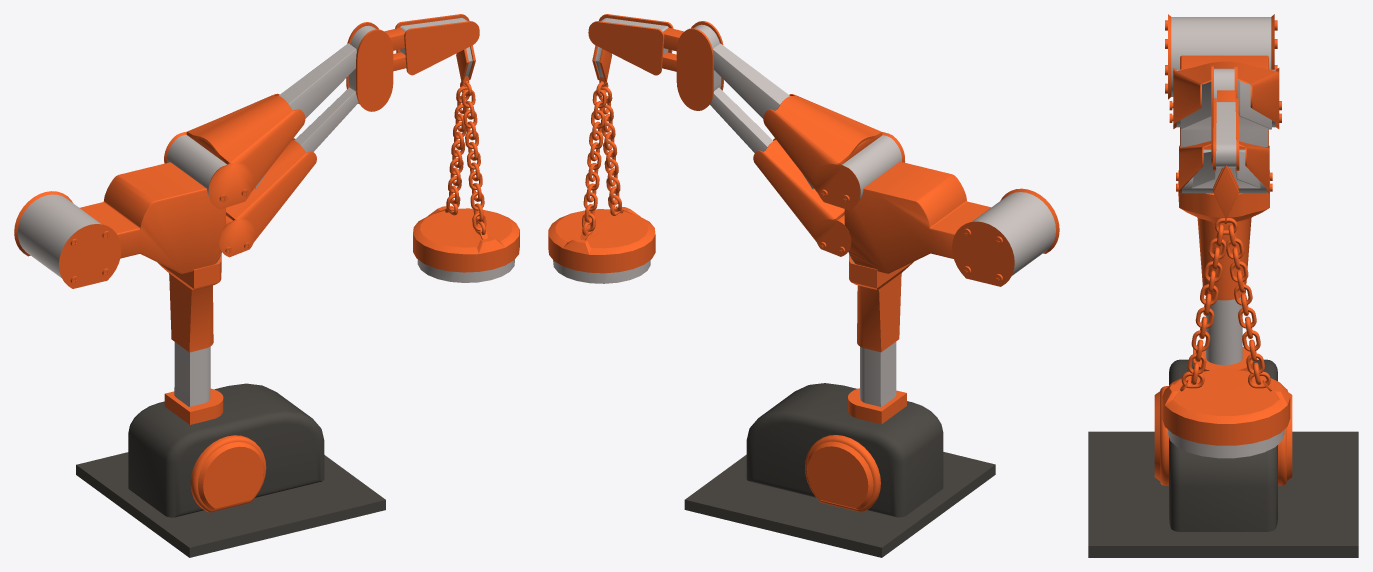
File: Crane_final.fbx
The picture shows the model from 3 angles, left to right: view 1: azimuth 30°, elevation 25°; view 2: azimuth 150°, elevation 25°; view 3: azimuth 270°, elevation 25°; orthographic projection. The views are drawn at different scales.
Parts seen in each view (by area): view 1: Cube.007, Cylinder.015, Cylinder.017, Torus.005; view 2: Cube.007, Cylinder.015, Cylinder.017, Torus.005; view 3: Cube.007, Torus.005, Cylinder.017, Cylinder.015, Plane.006.
Boxes of the visible parts, left/top/right/bottom form: Cube.007: left=76, top=383, right=385, bottom=557; Cylinder.015: left=164, top=14, right=479, bottom=257; Cylinder.017: left=14, top=162, right=225, bottom=406; Torus.005: left=413, top=76, right=519, bottom=282; Cube.007: left=684, top=383, right=995, bottom=557; Cylinder.015: left=588, top=14, right=905, bottom=256; Cylinder.017: left=844, top=161, right=1059, bottom=406; Torus.005: left=548, top=77, right=655, bottom=283; Cube.007: left=1088, top=347, right=1358, bottom=557; Torus.005: left=1162, top=217, right=1290, bottom=458; Cylinder.017: left=1165, top=14, right=1277, bottom=365; Cylinder.015: left=1169, top=61, right=1281, bottom=194; Plane.006: left=1213, top=165, right=1238, bottom=219.
Bounding box in the file's own units: 243 × 210 × 100.
